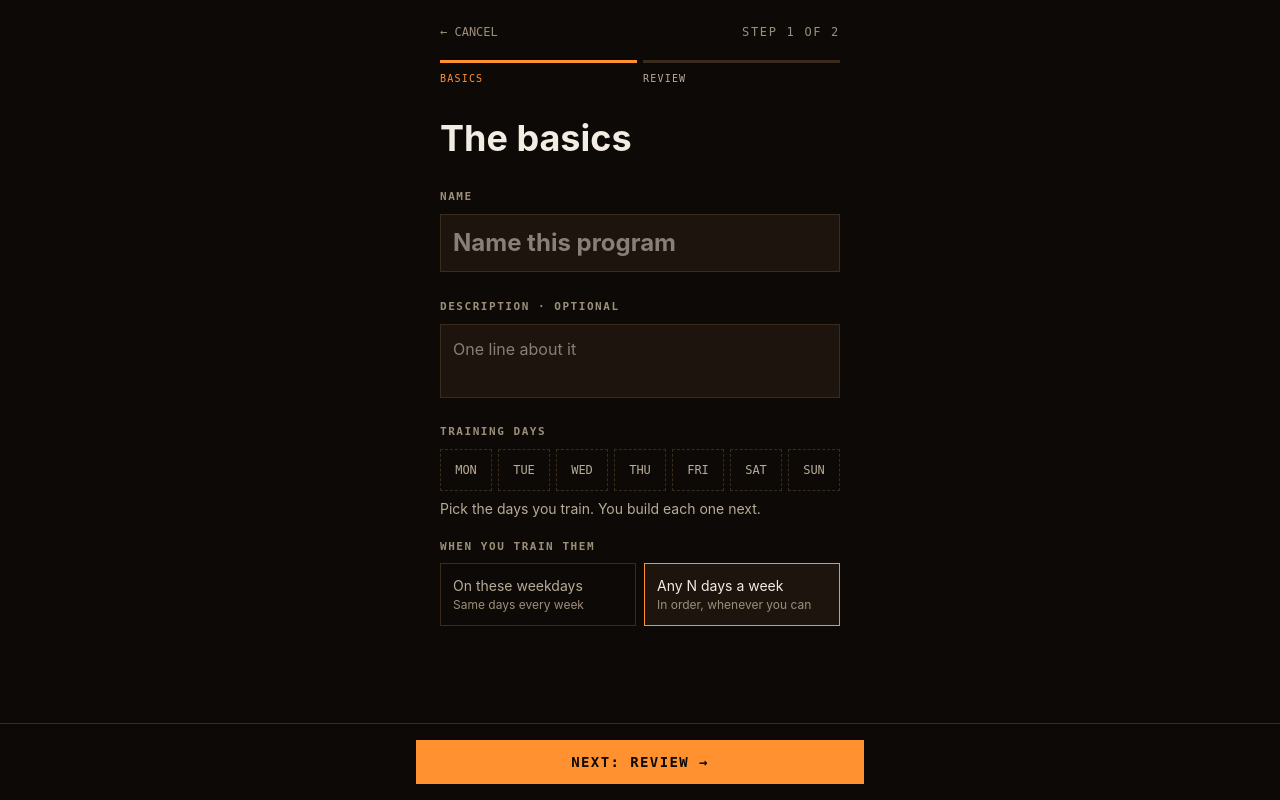
alternatives on a line (DN-185) › marks the movement the line holds among its alternatives
The width and height of the screenshot is (1280, 800).
Click the button "Mon" at (466, 470), box [440,448,492,490]
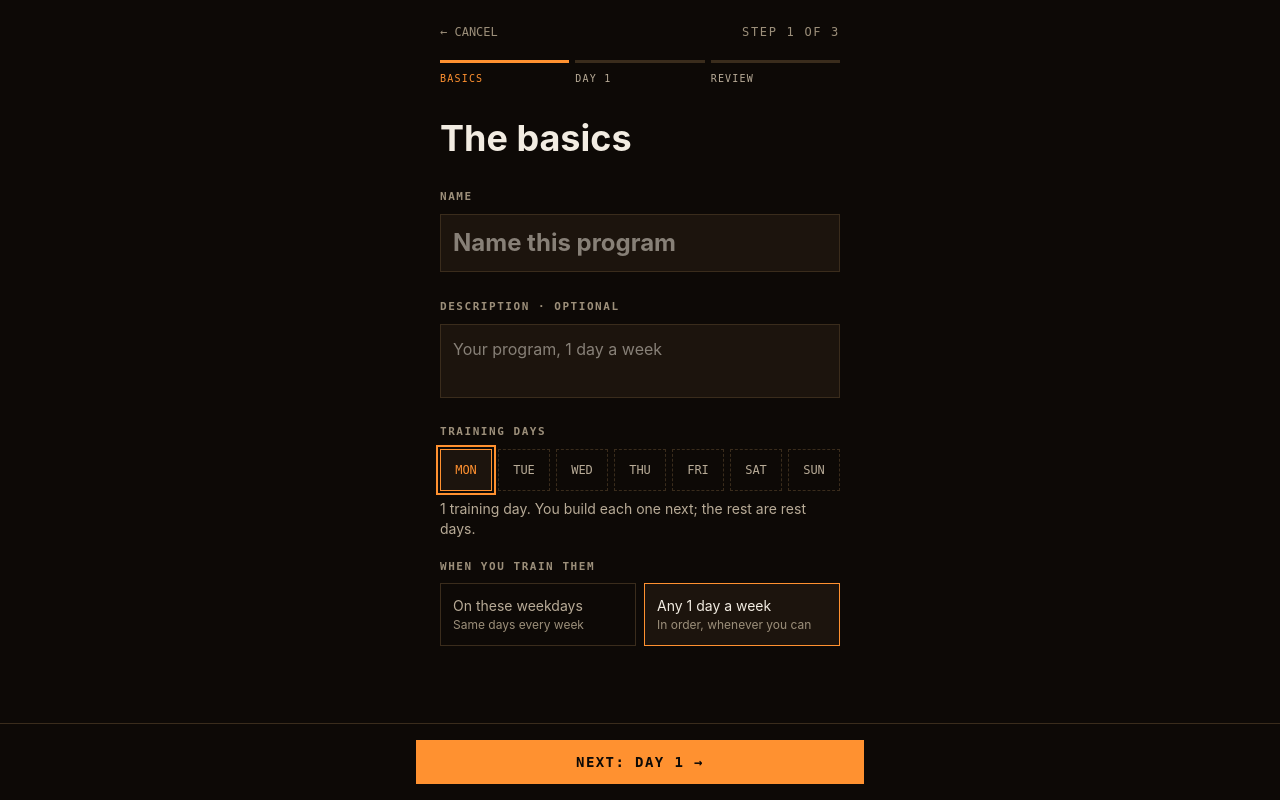
Click the button "Next: Day 1 →" at (640, 762), box [416,740,864,784]
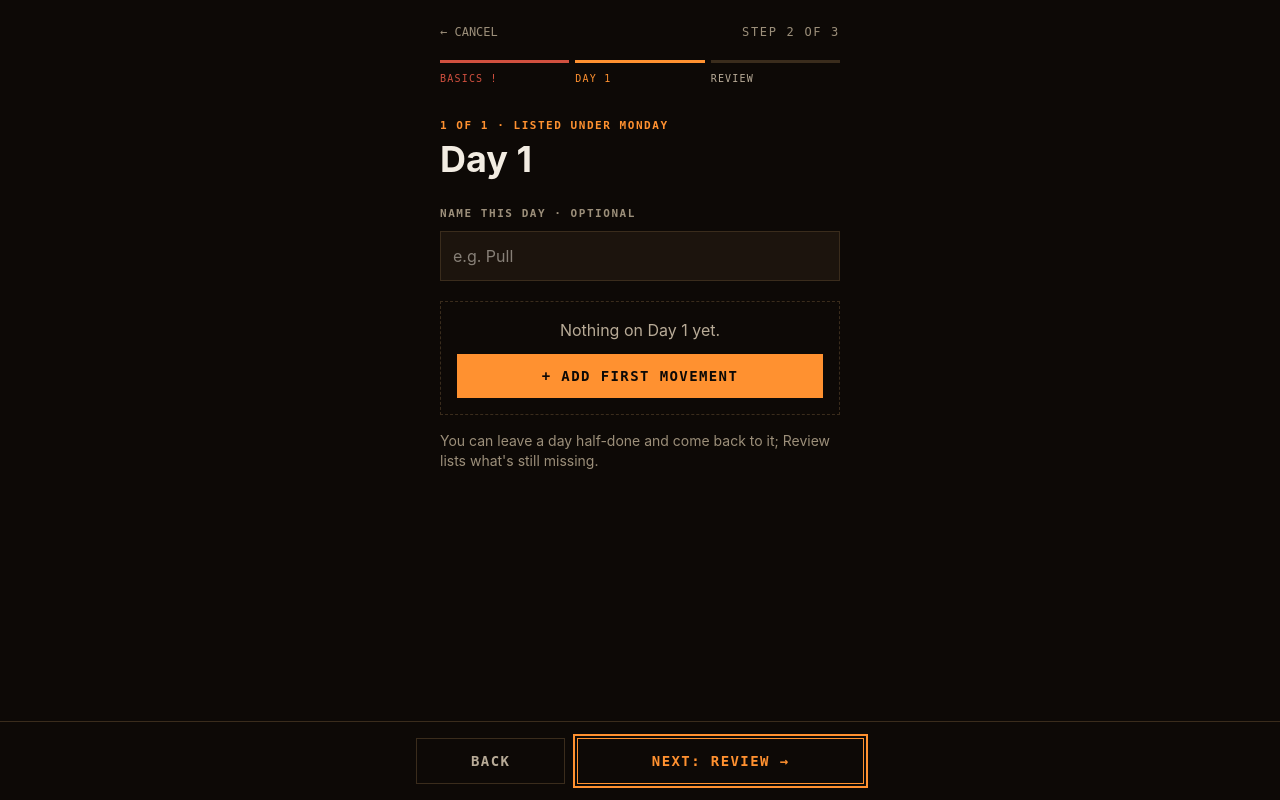
Click the button "+ Add first movement" at (640, 376), box [457,354,823,398]
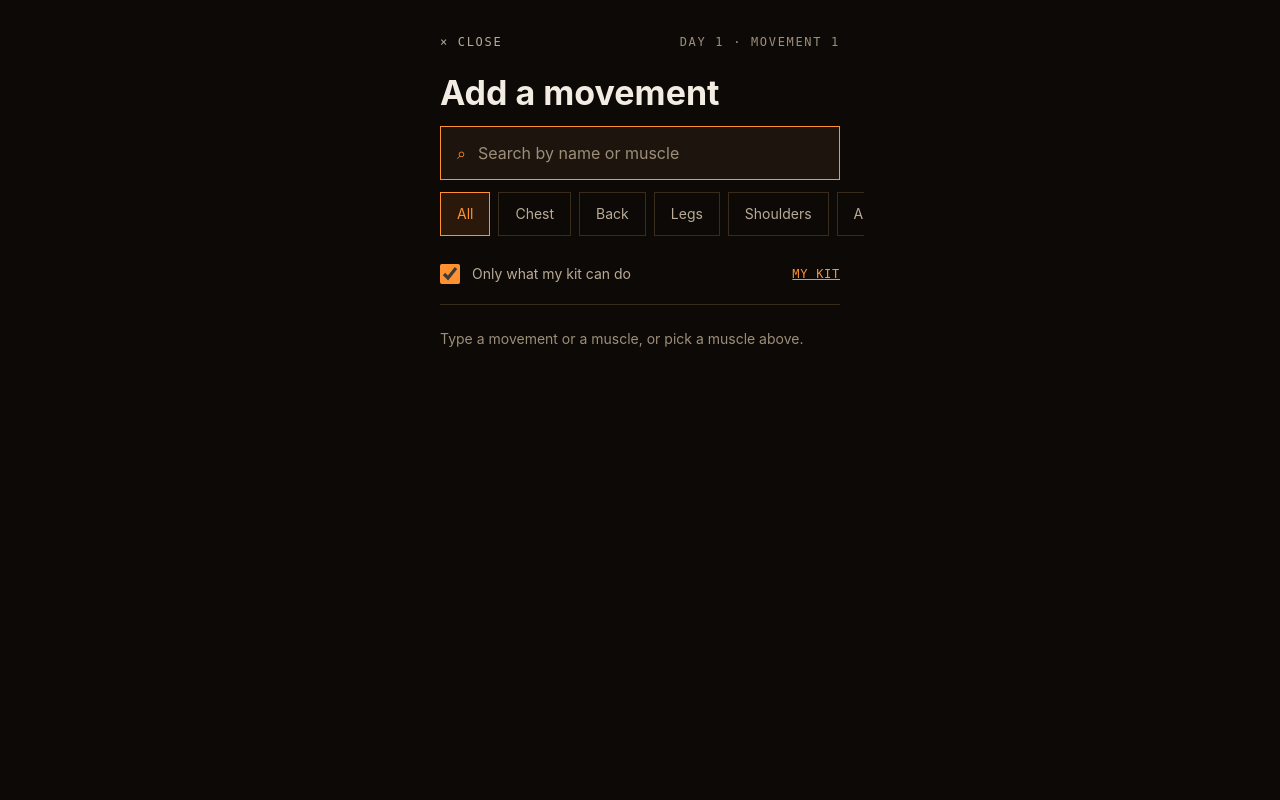
Type "chin" into the field named "Search movements" at (650, 153), box [478,127,823,179]
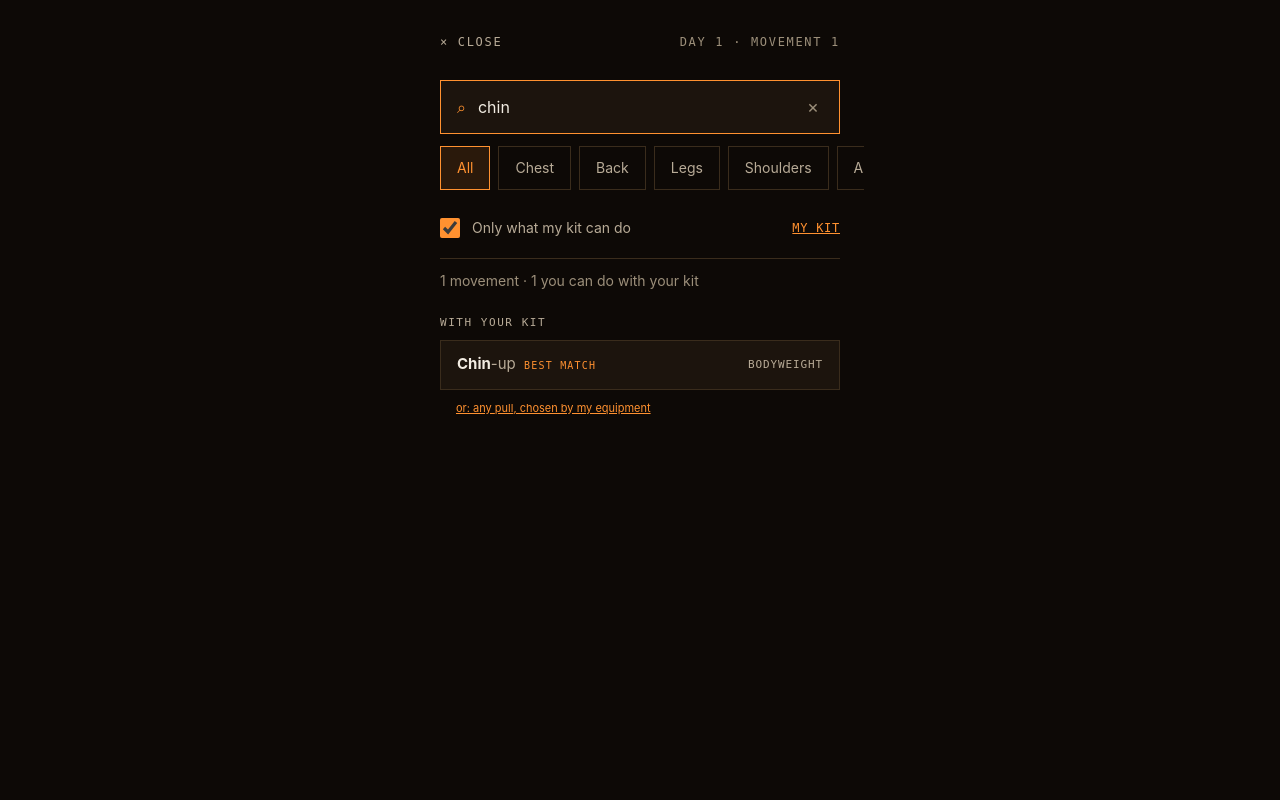
Click the button "Chin-up BEST MATCH BODYWEIGHT" at (474, 363), box [440,340,840,390]
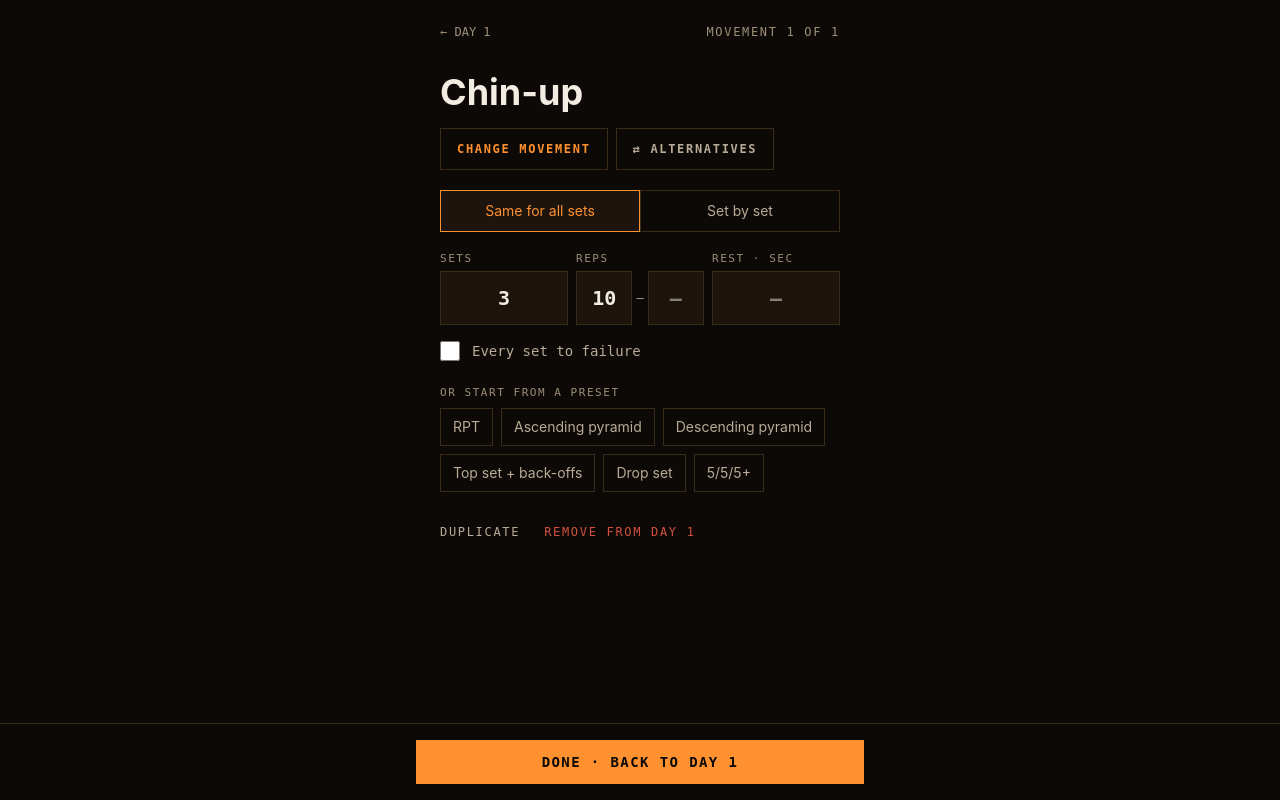
Click the button "⇄ Alternatives" at (695, 149), box [616,128,774,170]
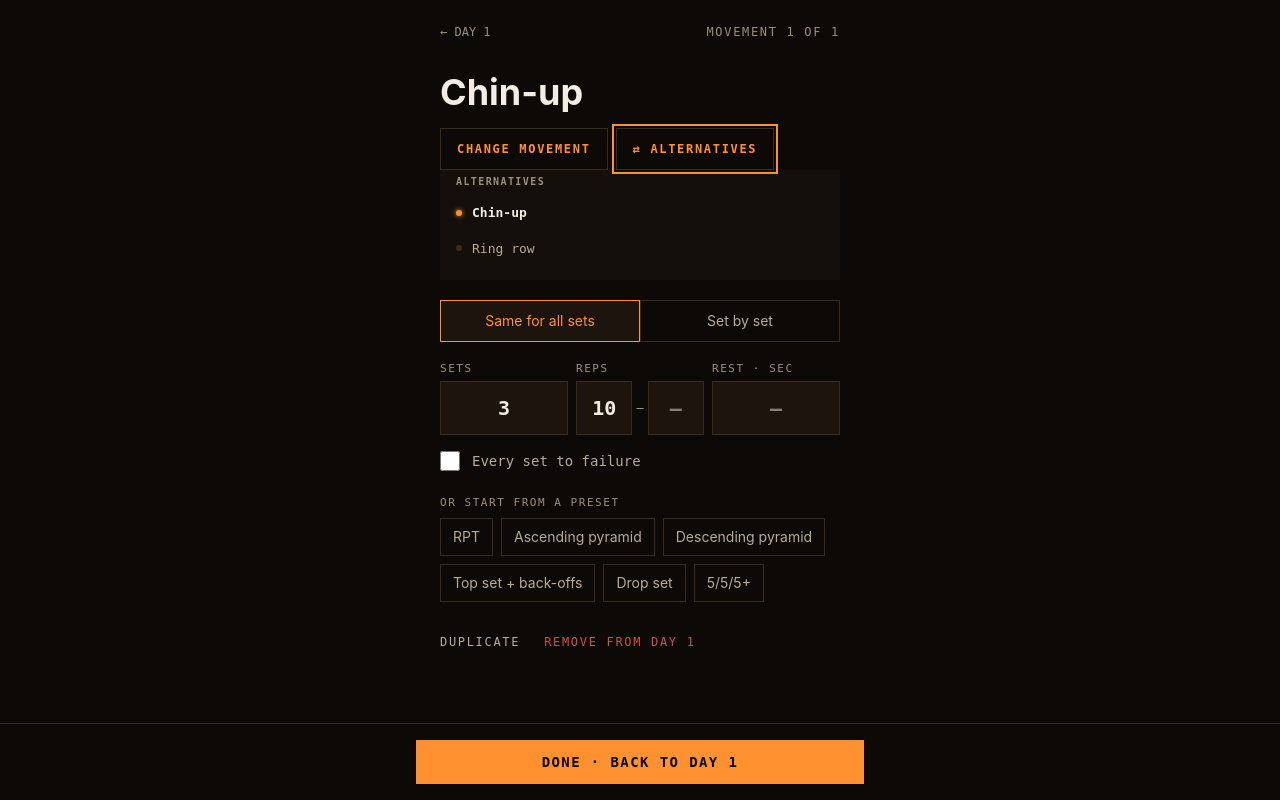
Check: the button "Chin-up" is shown, box [456,195,824,230]
Check: the text "ALTERNATIVES" is shown, box [456,176,545,187]
